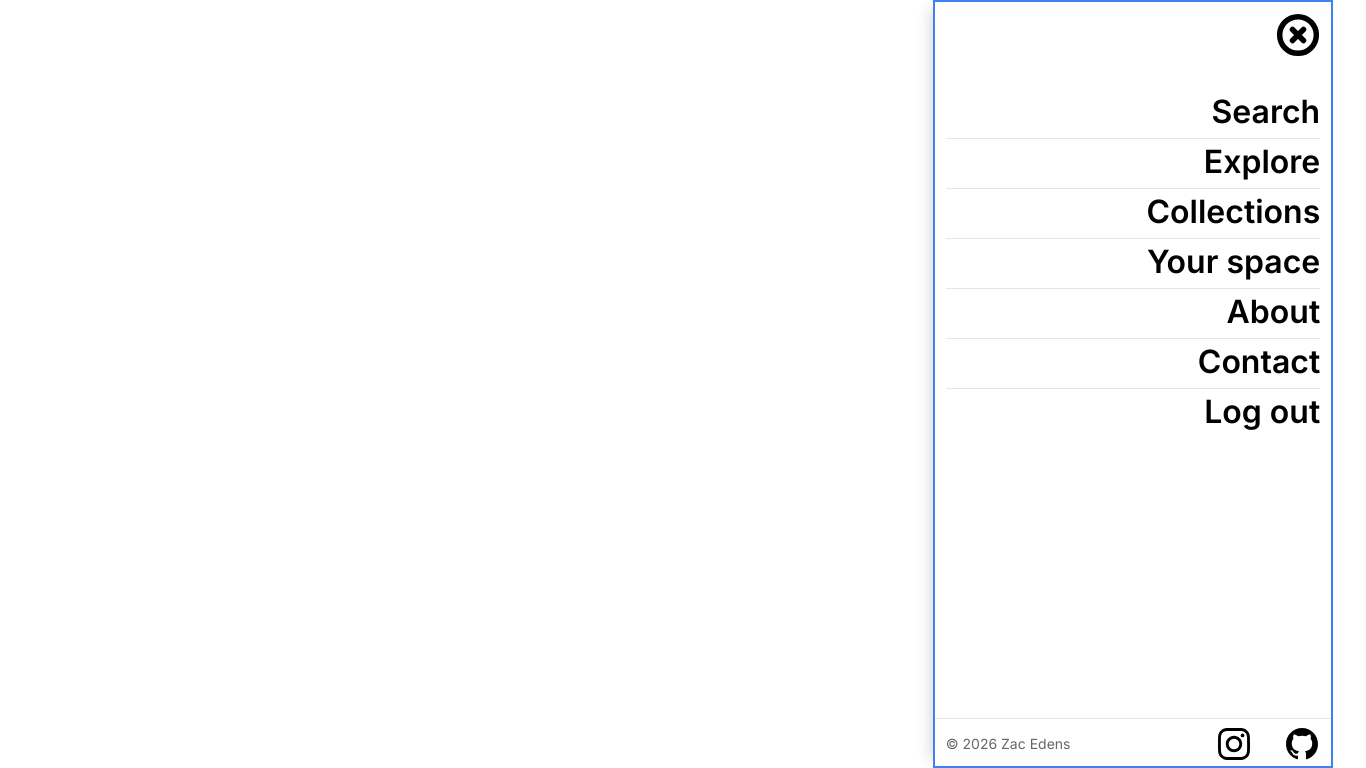
Scenario: MenuDropdown — About disclosure and Contact row › opens the contact dialog from the Contact row, closes the menu and locks the email
Expected: the button "Log out" is shown, 946,387 -> 1320,437
Expected: the field with placeholder "Your message" is not shown
Click the button "Contact" at x=1259, y=361, box 946,336 -> 1320,386
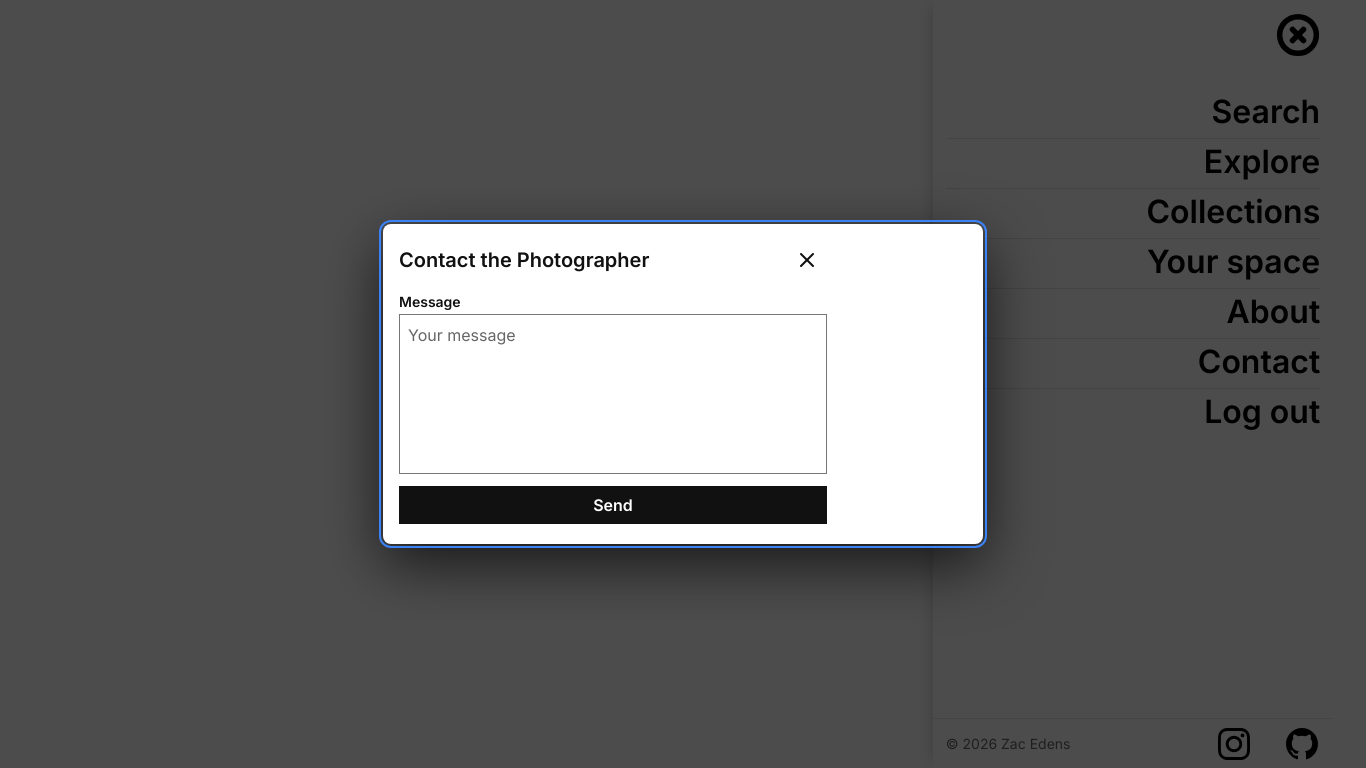
Now the heading "Contact the Photographer" is shown, box 399,248 -> 649,272
Now the text box with placeholder "Your message" is shown, box 399,314 -> 827,474
